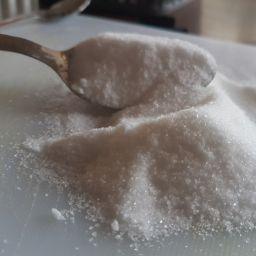Sugar: (22, 86, 256, 256), (51, 26, 222, 114), (122, 124, 246, 213)
